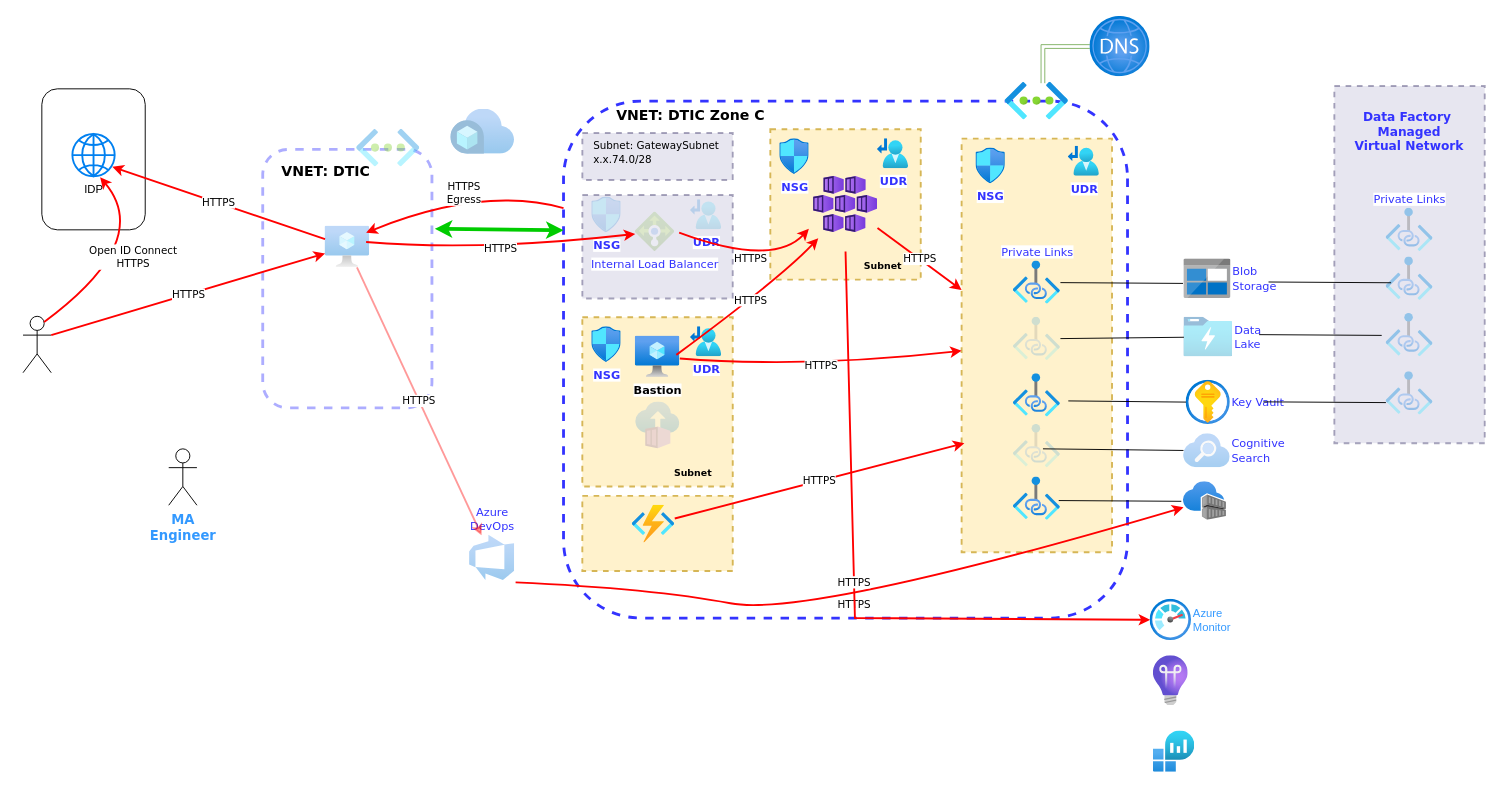
Image size: 1502x788. Some labels were removed from this diagram. Here are the shapes that lost their labels. From the top down, the box of each, then its label:
(1089, 16, 1150, 76): Private Zones
(41, 88, 145, 230): Okta
(813, 176, 877, 232): AKS
(325, 226, 369, 267): F5
(22, 315, 51, 373): End User
(635, 401, 679, 448): Azure DevOps Agent
(1183, 481, 1226, 520): Container Registry
(632, 505, 674, 542): Function Apps
(1153, 655, 1188, 705): Application Insights
(1153, 730, 1194, 772): Log Analytics
